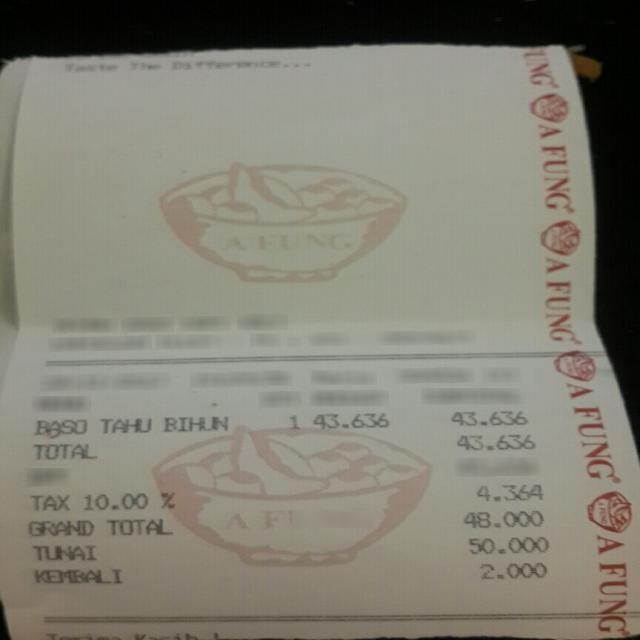kertas: (2, 45, 640, 640)
